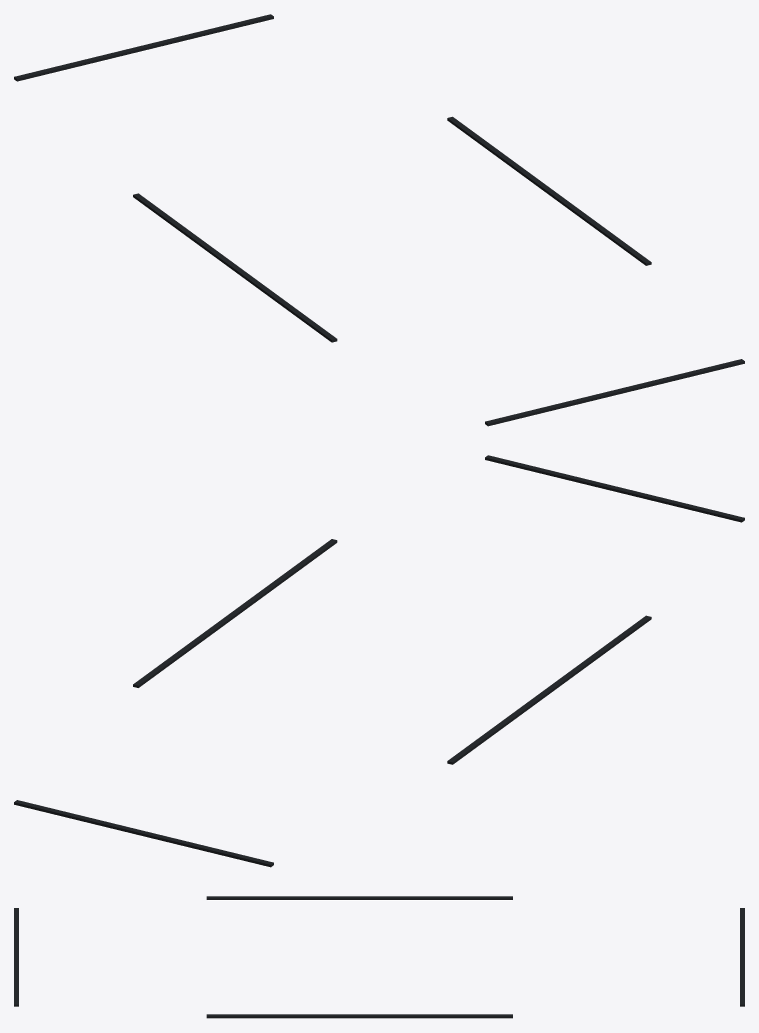
Rendered from apex_v8.glb.
The picture shows the model from 3 angles, top to bottom: view 1: azimuth 30°, elevation 25°; view 2: azimuth 150°, elevation 25°; view 3: azimuth 270°, elevation 25°; orthographic projection. The views are drawn at different scales.
Parts seen in each view (by area): view 1: model; view 2: model; view 3: model.
Boxes of the visible parts, x1=… form: model: x1=14, y1=14, x2=744, y2=426; model: x1=14, y1=455, x2=744, y2=867; model: x1=14, y1=896, x2=744, y2=1018.
Size of the model in its own units: 1.64 by 0.018 by 4.21.
Materials: 2 (1 with a texture image).
